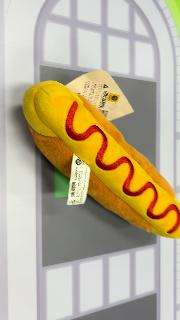hotdog: (22, 80, 180, 240)
